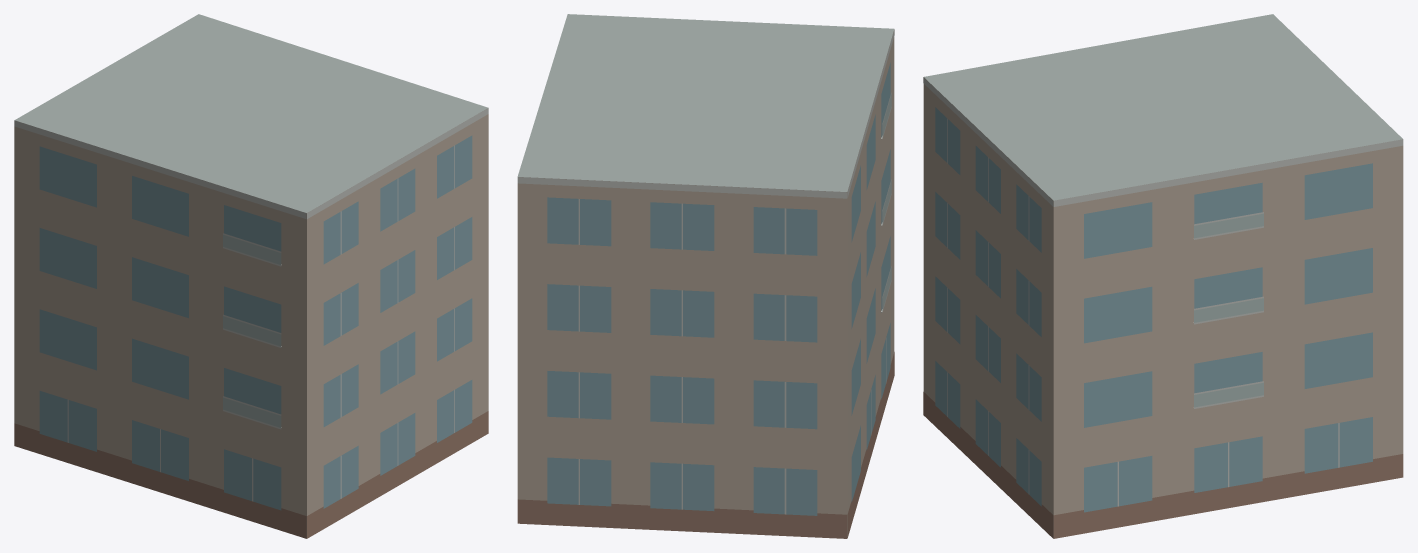
The model's file is survey-upis-32886136.glb.
The picture shows the model from 3 angles, left to right: view 1: azimuth 30°, elevation 25°; view 2: azimuth 150°, elevation 25°; view 3: azimuth 270°, elevation 25°; orthographic projection. The views are drawn at different scales.
Parts seen in each view (by area): view 1: survey-upis-32886136.tmp; view 2: survey-upis-32886136.tmp; view 3: survey-upis-32886136.tmp.
Boxes of the visible parts, x1=… form: survey-upis-32886136.tmp: x1=14, y1=14, x2=488, y2=538; survey-upis-32886136.tmp: x1=517, y1=14, x2=894, y2=538; survey-upis-32886136.tmp: x1=923, y1=14, x2=1403, y2=538.
Size of the model in its own units: 15.22 by 12.85 by 16.53.
